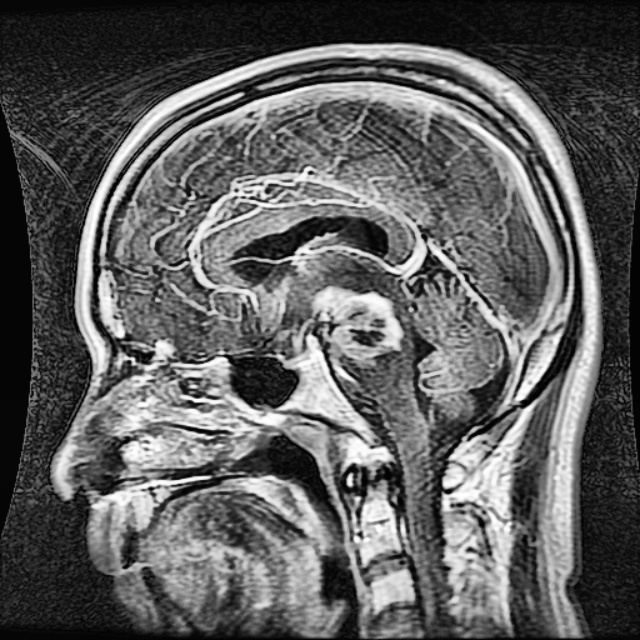Meningioma: (310, 280, 403, 369)
